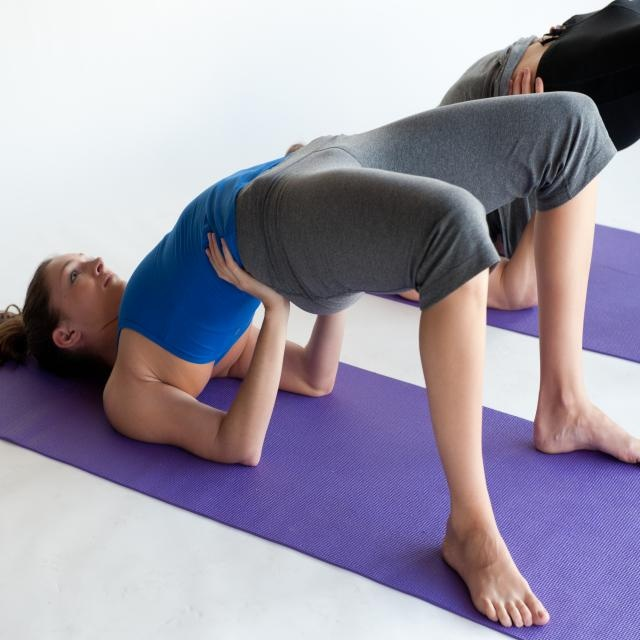Bridge_Pose: (10, 91, 640, 633)
